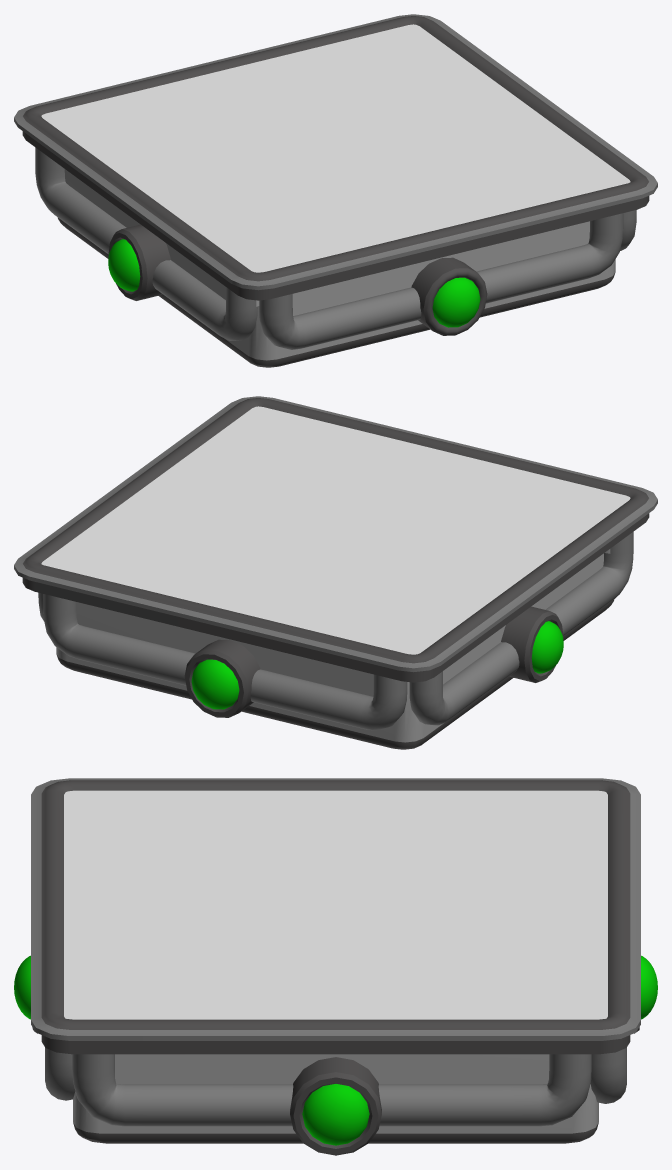
The model's file is Platform_E.fbx.
3 renders of one model, top to bottom at view 1: azimuth 30°, elevation 25°; view 2: azimuth 150°, elevation 25°; view 3: azimuth 270°, elevation 25°, orthographic. The views are drawn at different scales.
Visible parts, largest first — view 1: Platform_E; view 2: Platform_E; view 3: Platform_E.
Boxes of the visible parts, x1=… form: Platform_E: x1=14, y1=14, x2=657, y2=367; Platform_E: x1=14, y1=396, x2=657, y2=749; Platform_E: x1=14, y1=778, x2=657, y2=1155.
Bounding box in the file's own units: 2.19 × 2.19 × 0.7208.
